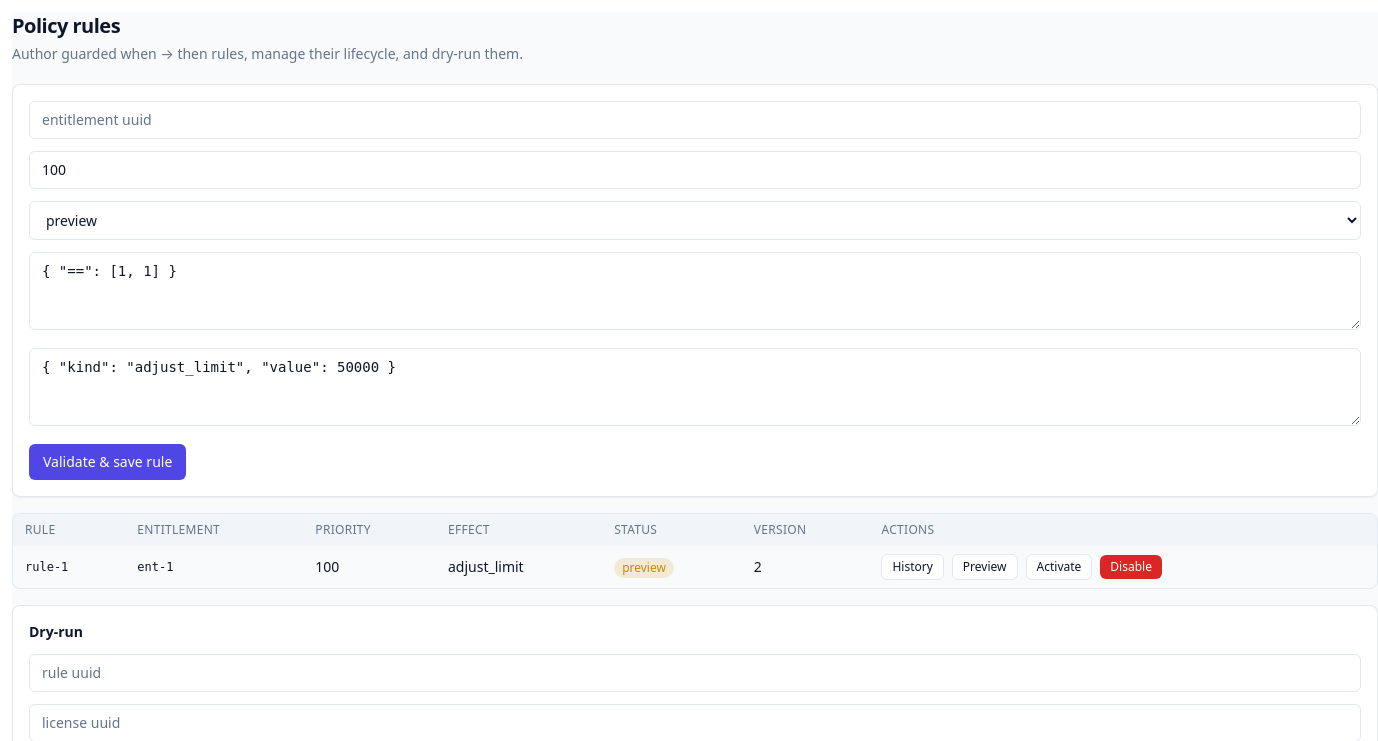
Test: PolicyRules (US1/US5) › promotes a rule's status and surfaces a 409 invalid_state_transition
Expected: the text "rule-1" is shown, [13,546,125,588]
Click the button with aria-label "Activate rule-1" at (1059, 567), box [1026,554,1092,580]
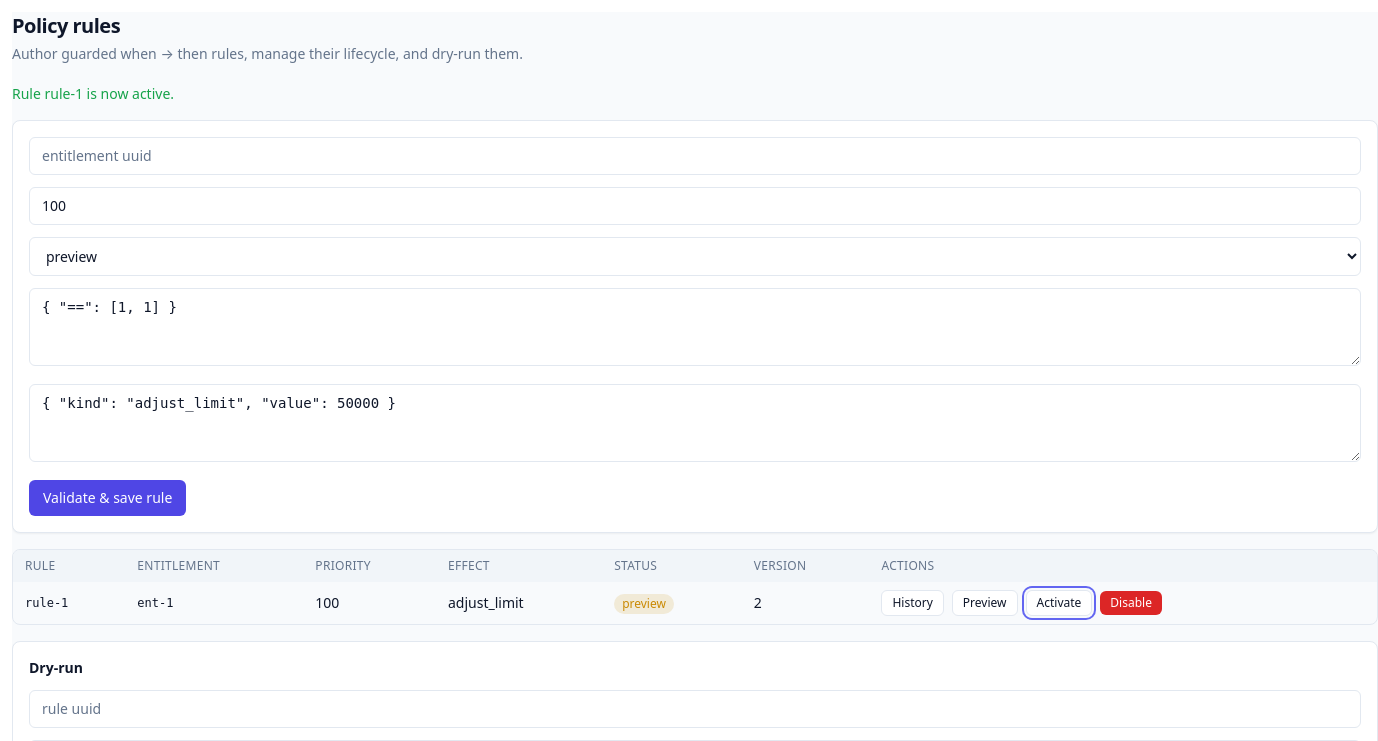
Click the button with aria-label "Disable rule-1" at (1131, 603), box [1100,591,1162,615]
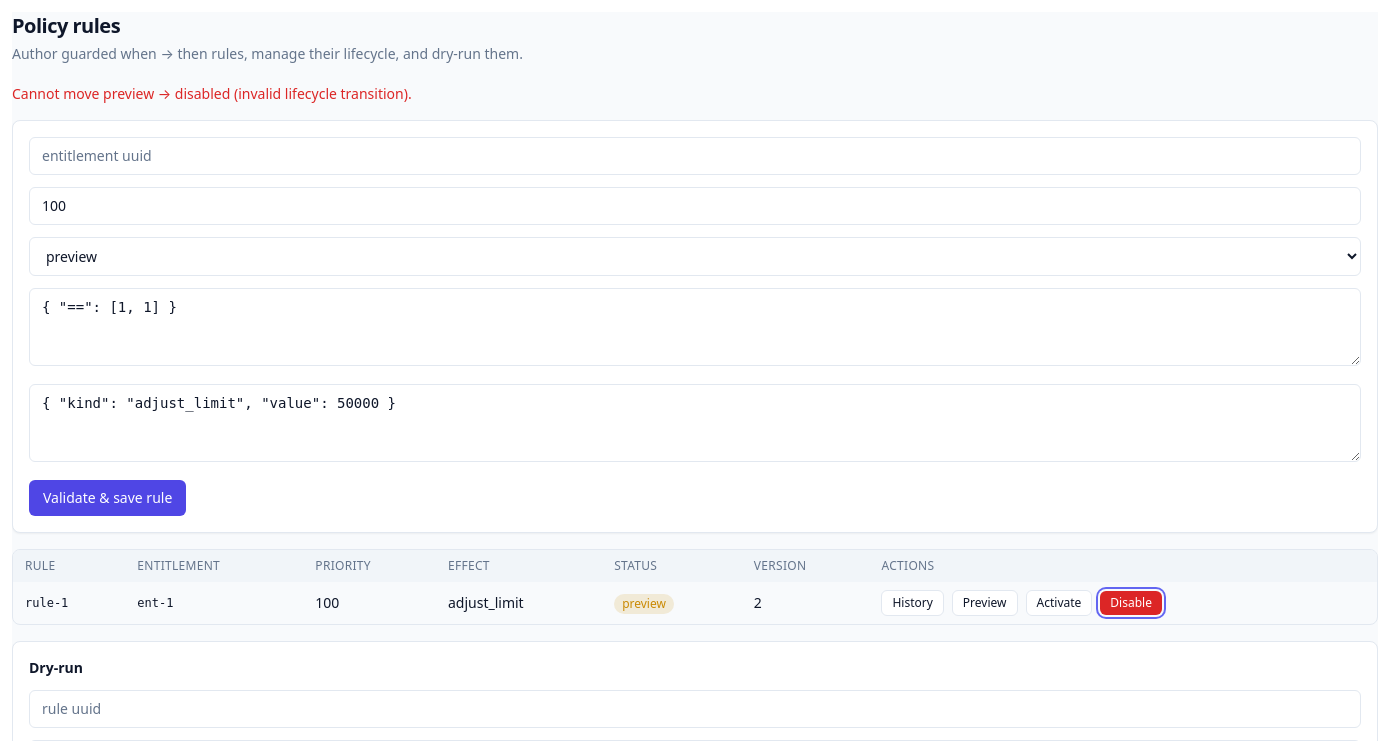
Now the message shows "invalid lifecycle transition", box [12,84,412,103]
